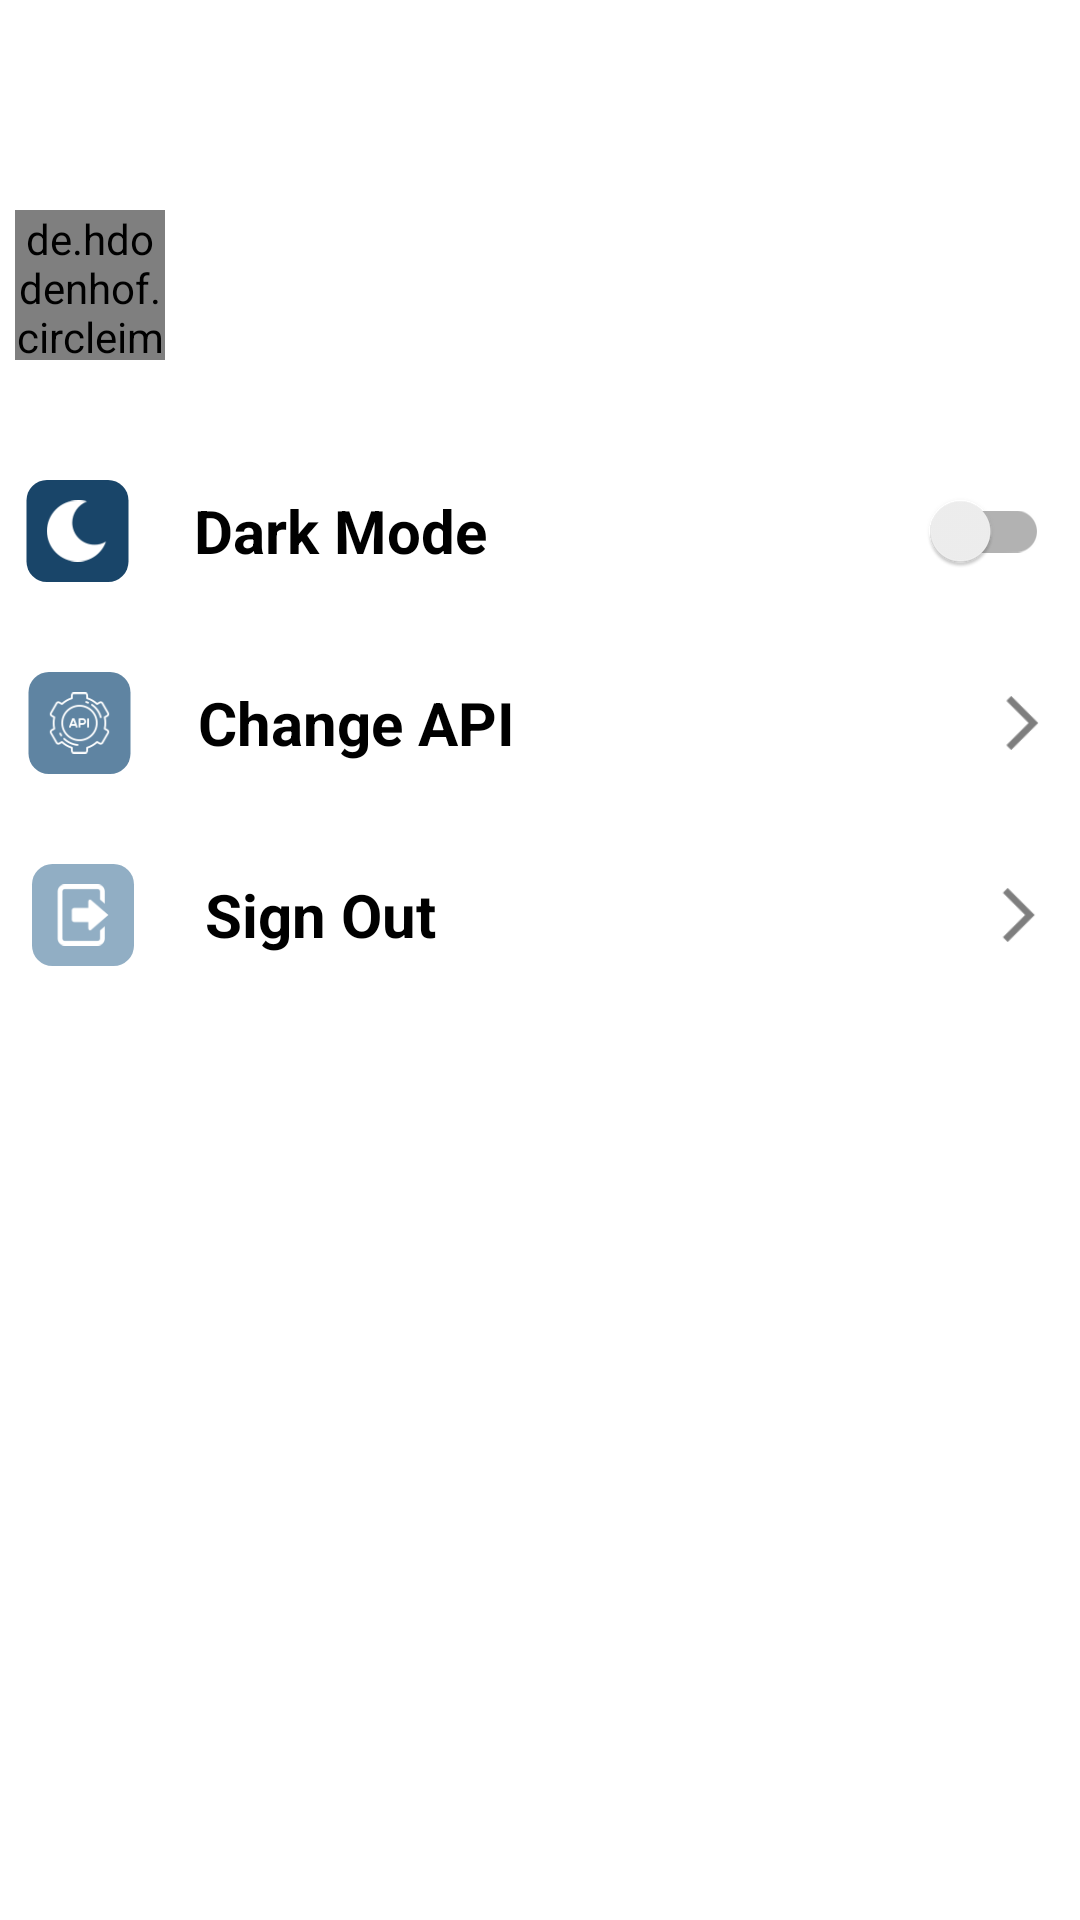

Icon click points for this 1080 × 1920 phone screenshot, format (x,y):
open setting: (1022,723), (1019,915)
